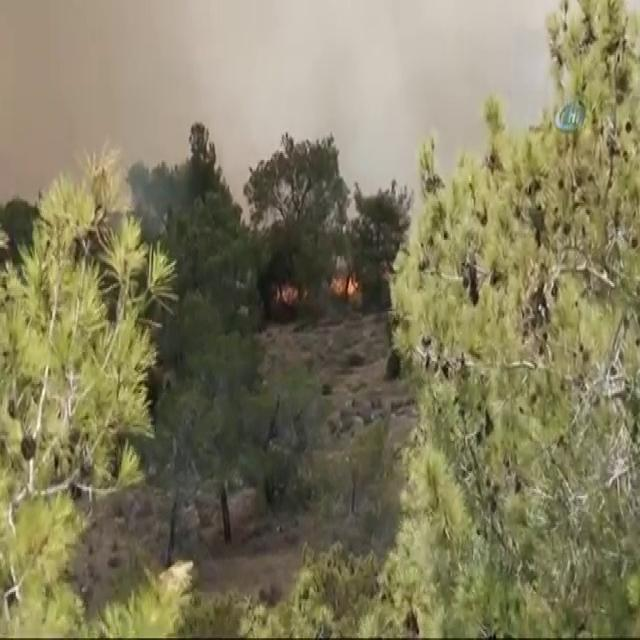Fire: (331, 276, 362, 302)
Smoke: (125, 0, 318, 156), (53, 47, 96, 113)
